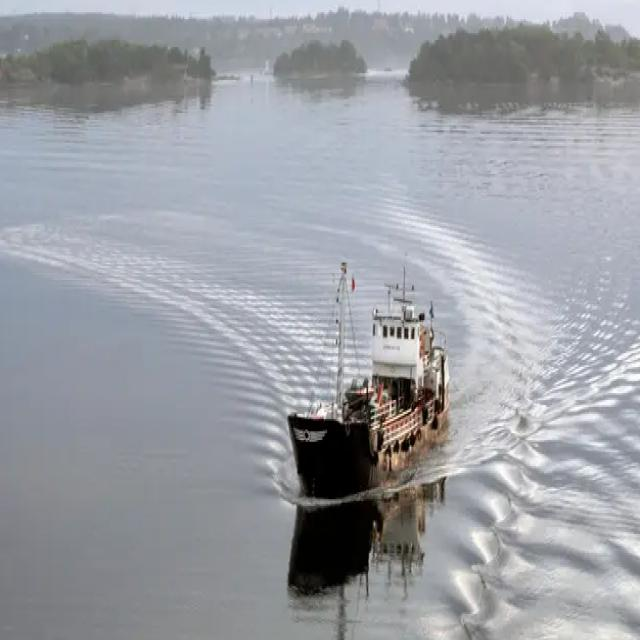fishing boat: (284, 254, 452, 495)
